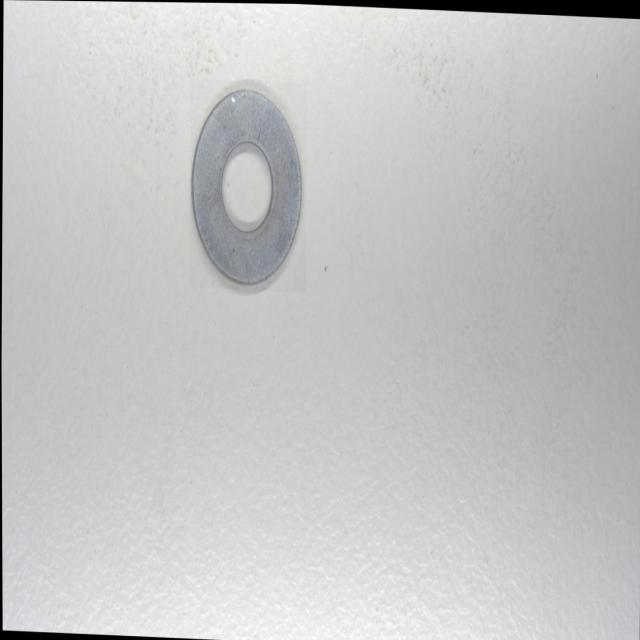washer: (190, 80, 306, 288)
